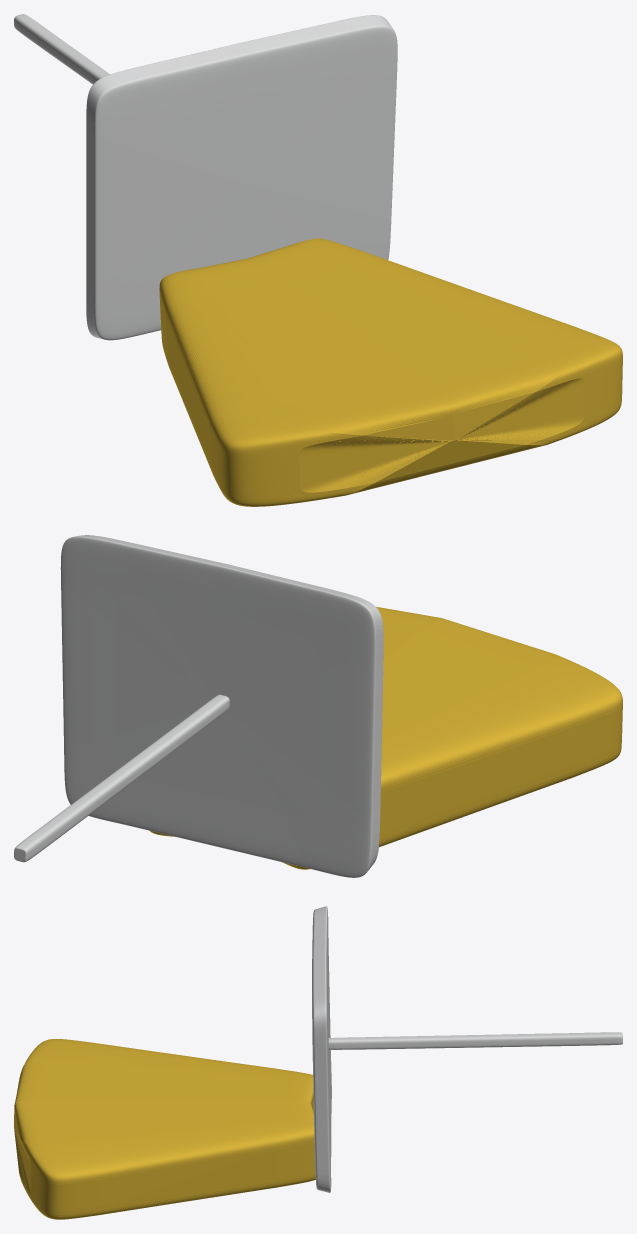
Rendered from 22_chair_sq.glb.
3 renders of one model, top to bottom at view 1: azimuth 30°, elevation 25°; view 2: azimuth 150°, elevation 25°; view 3: azimuth 270°, elevation 25°, orthographic. The views are drawn at different scales.
Visible parts, largest first — view 1: superquadric_1, superquadric_0, superquadric_2; view 2: superquadric_0, superquadric_1, superquadric_2; view 3: superquadric_1, superquadric_0, superquadric_2.
Part boxes in pixels (box(x1,y1,x2,y2)): superquadric_1: box(159, 238, 622, 506); superquadric_0: box(86, 15, 397, 340); superquadric_2: box(14, 14, 109, 84); superquadric_0: box(60, 535, 383, 877); superquadric_1: box(149, 607, 622, 869); superquadric_2: box(14, 694, 229, 862); superquadric_1: box(14, 1039, 315, 1219); superquadric_0: box(312, 906, 331, 1192); superquadric_2: box(328, 1032, 622, 1049).
Size of the model in its own units: 0.5442 by 0.3687 by 1.
